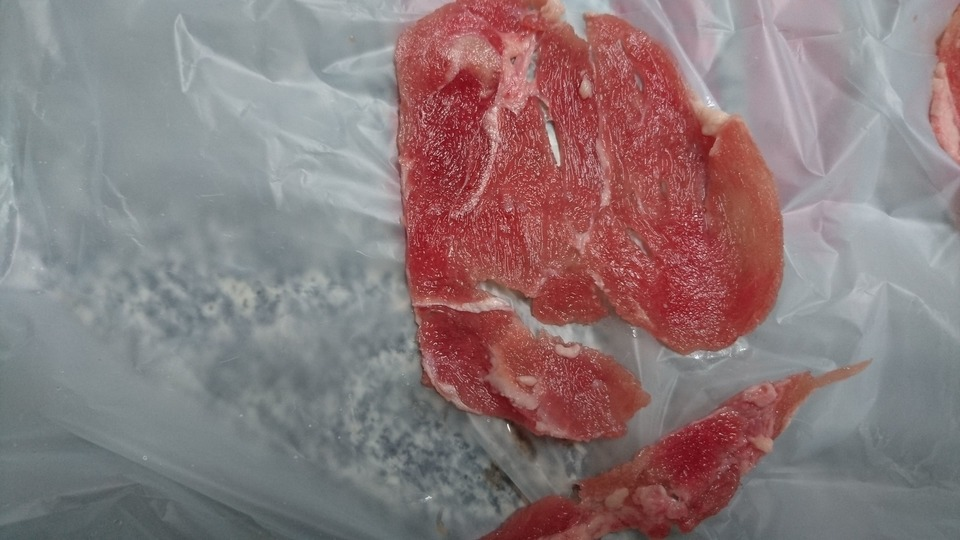restructured meat: (371, 13, 824, 540)
